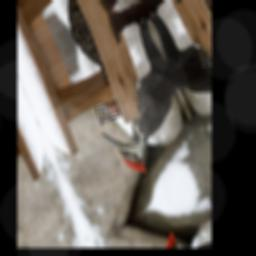Woodpecker: (70, 9, 201, 195)
